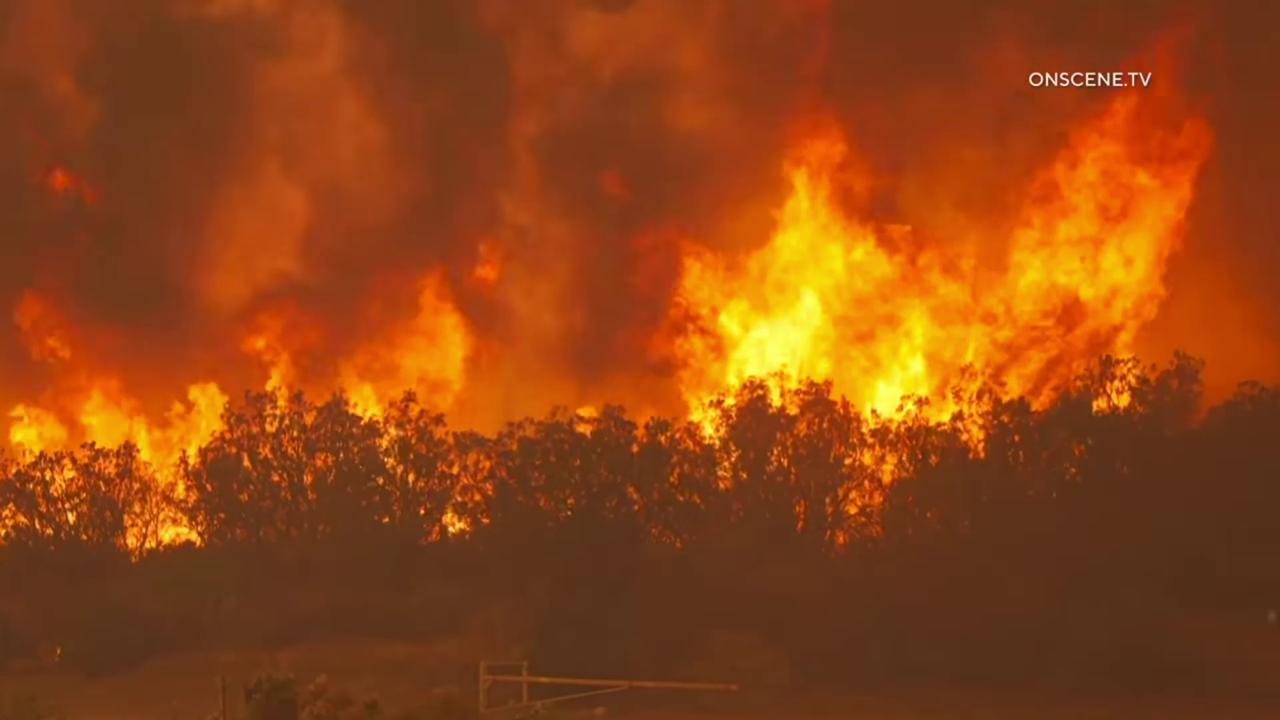fire: (645, 19, 1219, 549), (0, 227, 506, 564), (566, 400, 600, 441)
smoke: (0, 0, 1280, 720)
